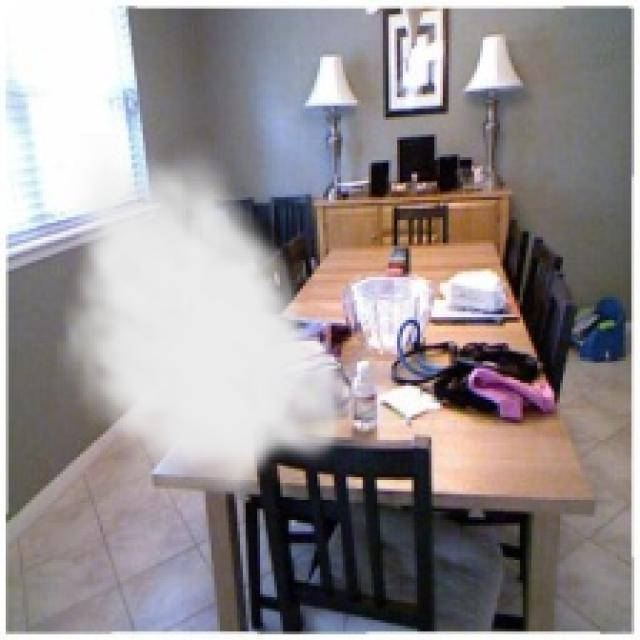smoke: (54, 134, 414, 506)
